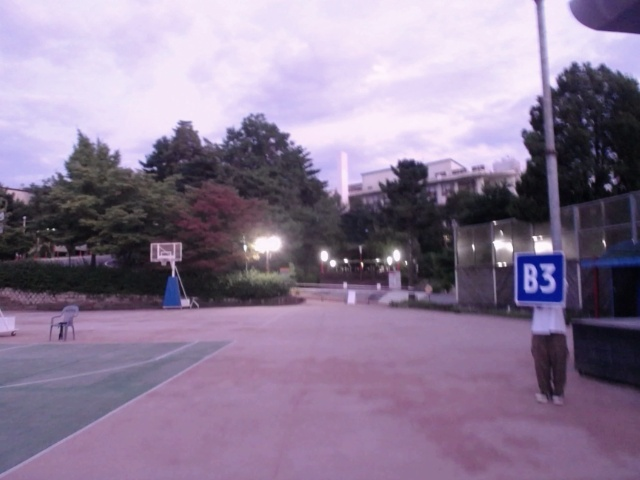delivery_b3: (514, 251, 566, 306)
